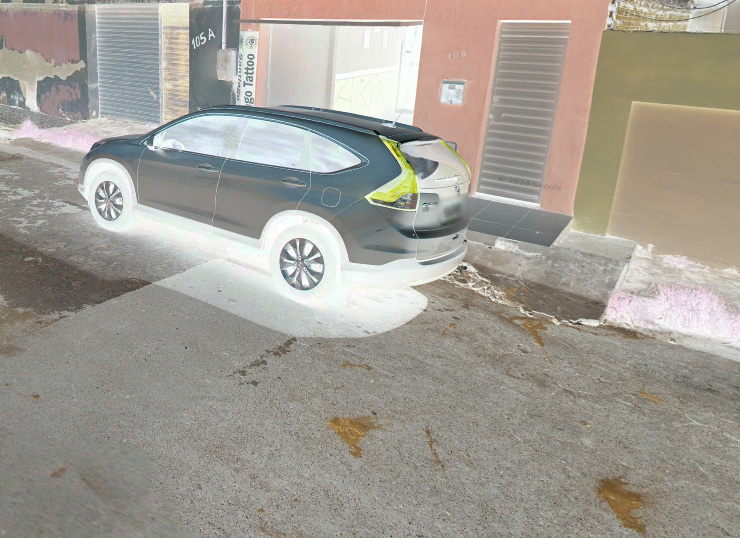car: (75, 98, 475, 300)
